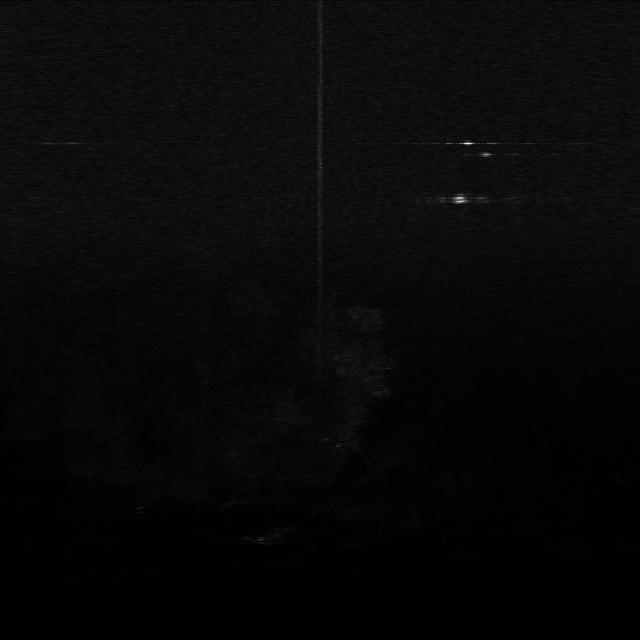rov: (448, 193, 474, 207)
